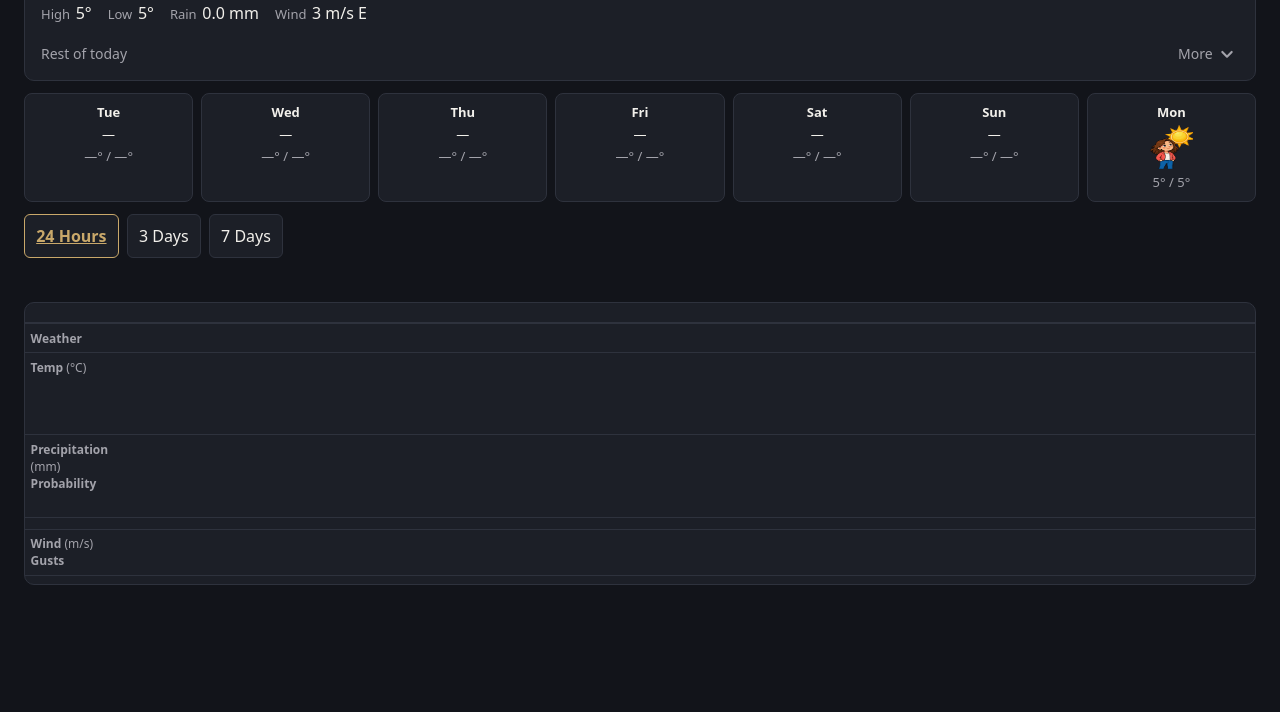
Scenario: Wind direction on 3-day/7-day views (019-dashboard-polish-round-four, US5) › shows a wind-direction arrow on the 3-day view when the underlying data has a wind reading
Click the button "3 Days".
click(164, 236)  # box left=127, top=214, right=201, bottom=258
(page scrolled)
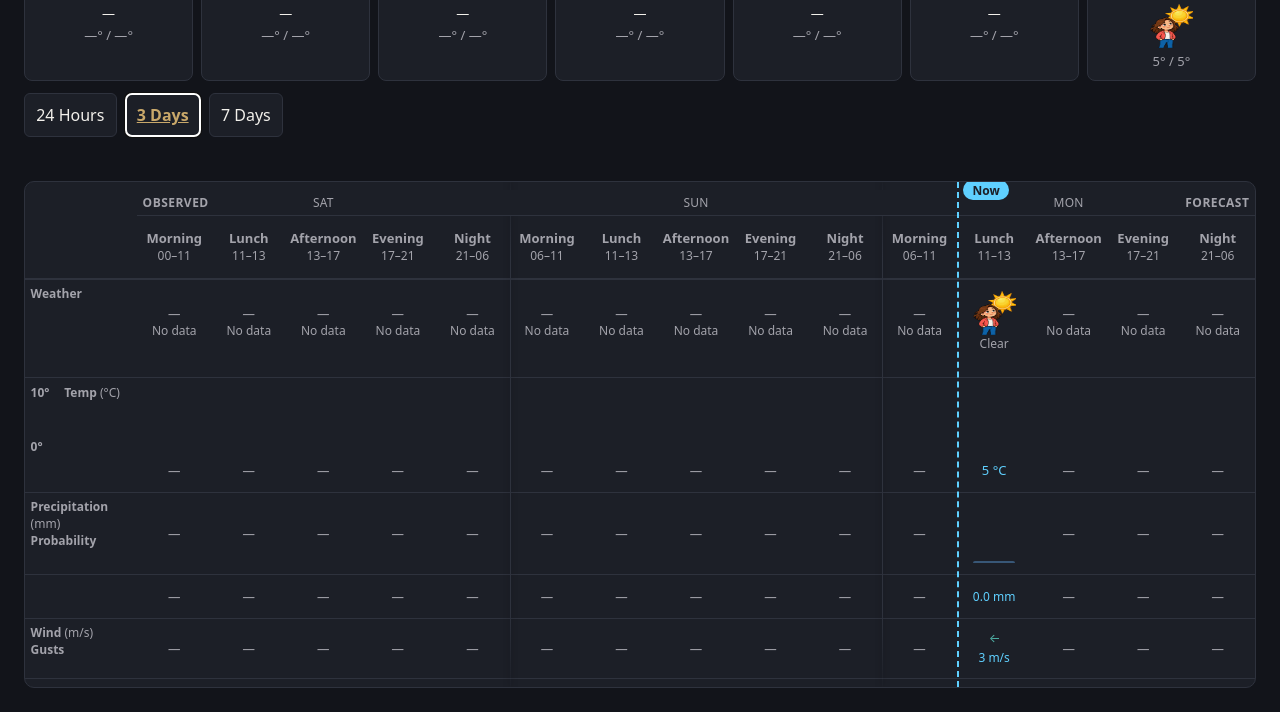
Result: the text "↑" is shown at left=986, top=634, right=1003, bottom=644
